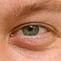eye: (24, 26, 38, 35)
